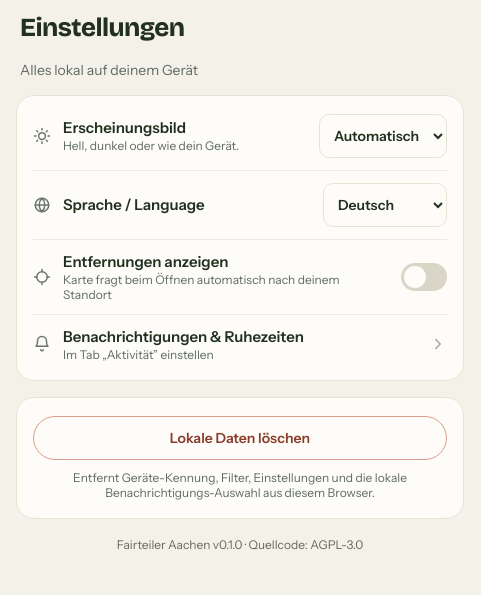
Test: EinstellungenView › can cancel the confirmation without deleting
The image size is (481, 595).
Step 1. Click the button with test id "clear-data" → (240, 438), box [33,416,447,460]
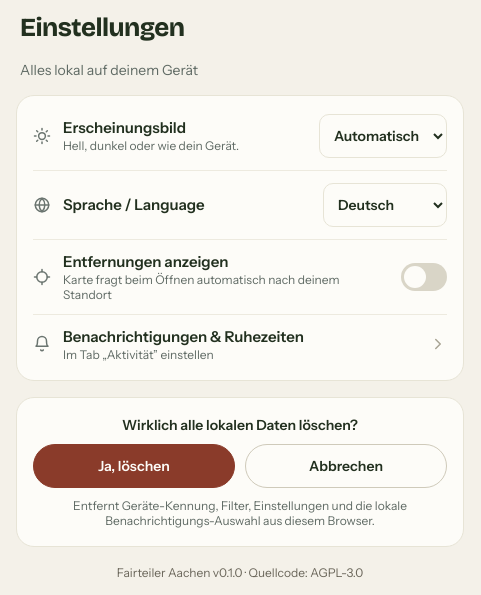
Step 2. Click the button with test id "clear-cancel" → (346, 466), box [245,444,447,488]
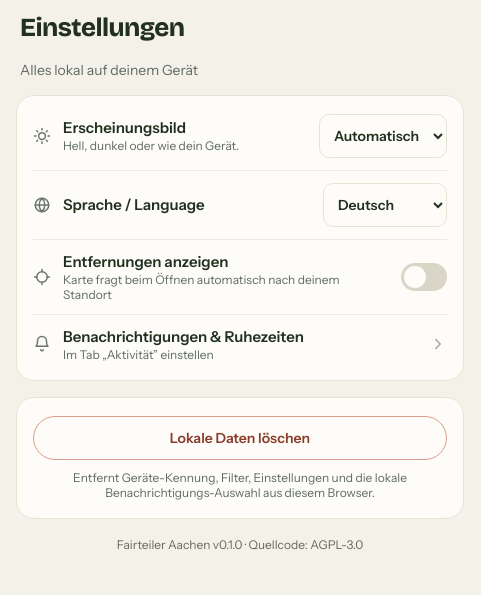
expect the button with test id "clear-data" is shown: met, box [33,416,447,460]
